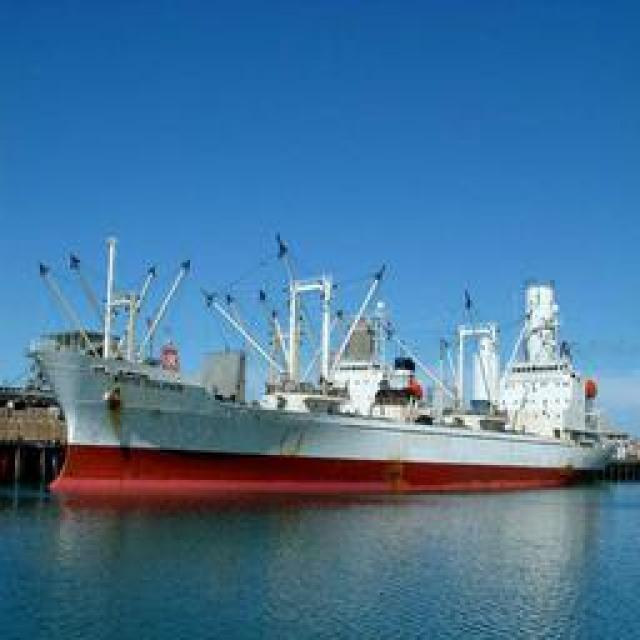ship2: (26, 234, 639, 508)
